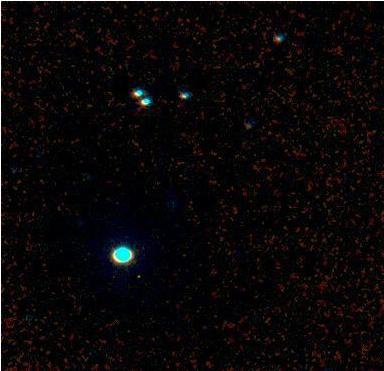star: (122, 263, 152, 293)
